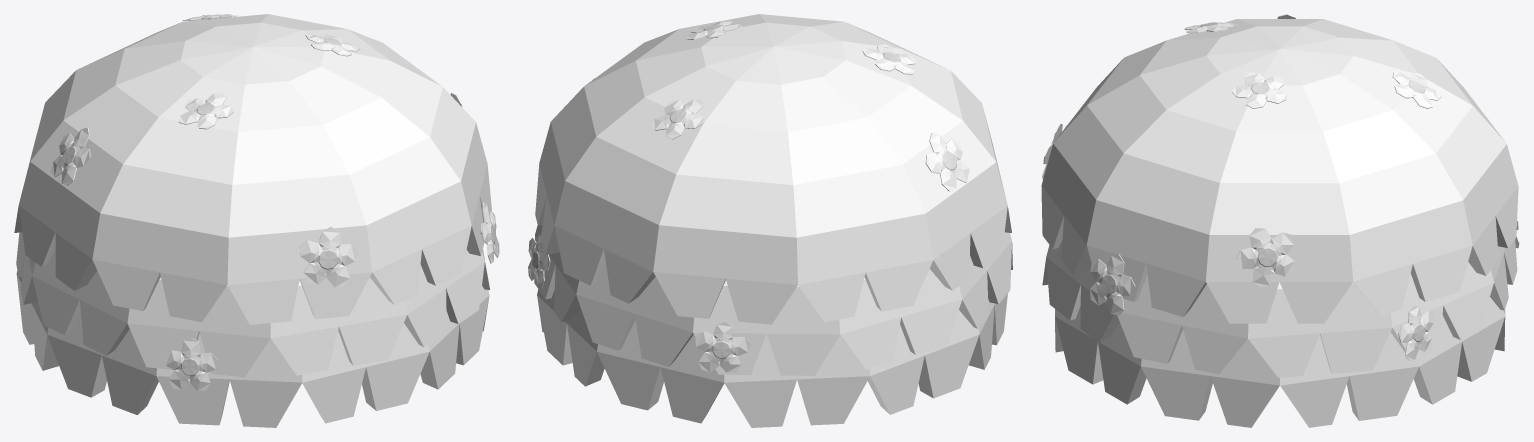
The model's file is arbustoPrincipal.fbx.
3 views of the same model, side by side, from view 1: azimuth 30°, elevation 25°; view 2: azimuth 150°, elevation 25°; view 3: azimuth 270°, elevation 25° (orthographic).
Parts seen in each view (by area): view 1: arbustoPrincipal; view 2: arbustoPrincipal; view 3: arbustoPrincipal.
Boxes of the visible parts, x1,y1,x2,y2 form: arbustoPrincipal: [14, 14, 499, 427]; arbustoPrincipal: [528, 14, 1012, 427]; arbustoPrincipal: [1041, 14, 1519, 427].
Bounding box in the file's own units: 320 × 228 × 322.
